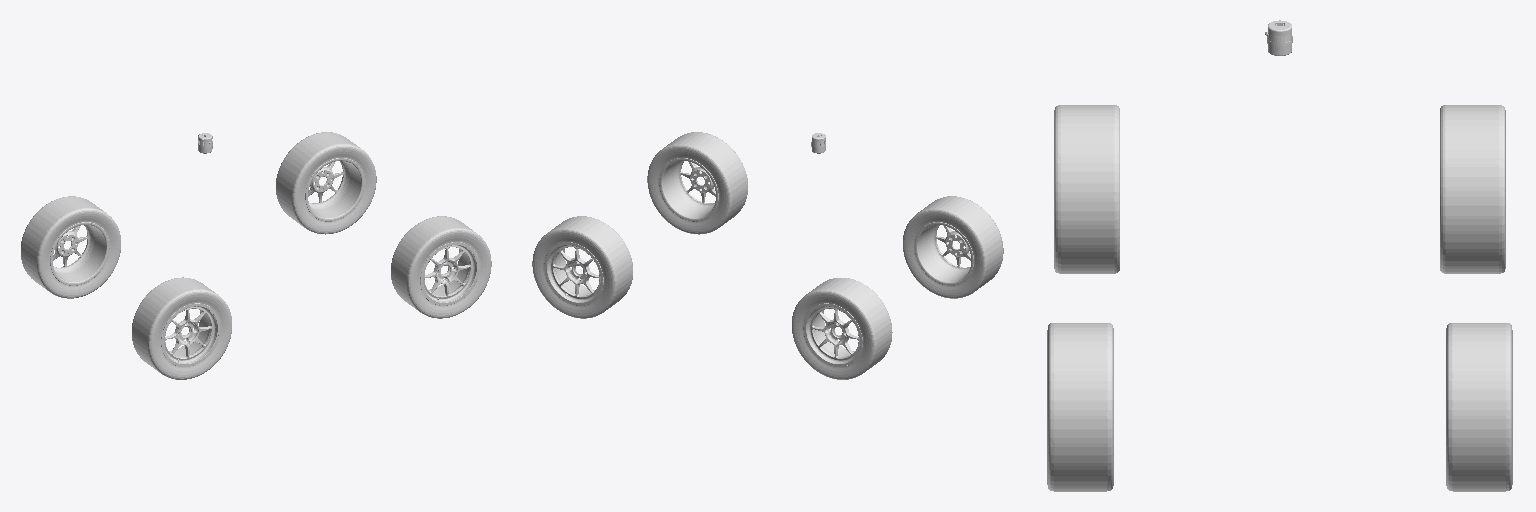
URDF robot description (urdf1):
<?xml version="1.0" encoding="utf-8"?>
<!-- This URDF was automatically created by SolidWorks to URDF Exporter! Originally created by Stephen Brawner (brawner@gmail.com) 
     Commit Version: 1.6.0-4-g7f85cfe  Build Version: 1.6.7995.38578
     For more information, please see http://wiki.ros.org/sw_urdf_exporter -->
<robot
  name="urdf1">
  <link
    name="base_link">
    <inertial>
      <origin
        xyz="0.21089 0.0079163 0.52061"
        rpy="0 0 0" />
      <mass
        value="46.187" />
      <inertia
        ixx="1.8859"
        ixy="0.0044227"
        ixz="0.056972"
        iyy="1.1014"
        iyz="0.00050168"
        izz="2.5571" />
    </inertial>
    <visual>
      <origin
        xyz="0 0 0"
        rpy="0 0 0" />
      <geometry>
        <mesh
          filename="package://urdf1/meshes/base_link.STL" />
      </geometry>
      <material
        name="">
        <color
          rgba="0.89412 0.89412 0.89412 1" />
      </material>
    </visual>
    <collision>
      <origin
        xyz="0 0 0"
        rpy="0 0 0" />
      <geometry>
        <mesh
          filename="package://urdf1/meshes/base_link.STL" />
      </geometry>
    </collision>
  </link>
  <link
    name="F_Left__Link">
    <inertial>
      <origin
        xyz="-7.3445E-06 -0.041865 1.6681E-05"
        rpy="0 0 0" />
      <mass
        value="8.3431" />
      <inertia
        ixx="0.24221"
        ixy="2.6654E-06"
        ixz="-9.1219E-06"
        iyy="0.40539"
        iyz="-6.0728E-06"
        izz="0.24223" />
    </inertial>
    <visual>
      <origin
        xyz="0 0 0"
        rpy="0 0 0" />
      <geometry>
        <mesh
          filename="package://urdf1/meshes/F_Left__Link.STL" />
      </geometry>
      <material
        name="">
        <color
          rgba="0.89412 0.89412 0.89412 1" />
      </material>
    </visual>
    <collision>
      <origin
        xyz="0 0 0"
        rpy="0 0 0" />
      <geometry>
        <mesh
          filename="package://urdf1/meshes/F_Left__Link.STL" />
      </geometry>
    </collision>
  </link>
  <joint
    name="F_Left__Joint"
    type="continuous">
    <origin
      xyz="1.3683 0.6455 0.216"
      rpy="0 0 0" />
    <parent
      link="base_link" />
    <child
      link="F_Left__Link" />
    <axis
      xyz="0 -1 0" />
  </joint>
  <link
    name="F_Right__Link">
    <inertial>
      <origin
        xyz="7.3448E-06 0.041865 1.6676E-05"
        rpy="0 0 0" />
      <mass
        value="8.3431" />
      <inertia
        ixx="0.24221"
        ixy="2.6642E-06"
        ixz="9.1191E-06"
        iyy="0.40539"
        iyz="6.0718E-06"
        izz="0.24223" />
    </inertial>
    <visual>
      <origin
        xyz="0 0 0"
        rpy="0 0 0" />
      <geometry>
        <mesh
          filename="package://urdf1/meshes/F_Right__Link.STL" />
      </geometry>
      <material
        name="">
        <color
          rgba="0.89412 0.89412 0.89412 1" />
      </material>
    </visual>
    <collision>
      <origin
        xyz="0 0 0"
        rpy="0 0 0" />
      <geometry>
        <mesh
          filename="package://urdf1/meshes/F_Right__Link.STL" />
      </geometry>
    </collision>
  </link>
  <joint
    name="F_Right__Joint"
    type="continuous">
    <origin
      xyz="1.3683 -0.6455 0.216"
      rpy="0 0 0" />
    <parent
      link="base_link" />
    <child
      link="F_Right__Link" />
    <axis
      xyz="0 1 0" />
  </joint>
  <link
    name="B_Left__Link">
    <inertial>
      <origin
        xyz="-1.6677E-05 -0.041865 -7.3409E-06"
        rpy="0 0 0" />
      <mass
        value="8.3431" />
      <inertia
        ixx="0.24223"
        ixy="6.0728E-06"
        ixz="9.1249E-06"
        iyy="0.40539"
        iyz="2.6671E-06"
        izz="0.24221" />
    </inertial>
    <visual>
      <origin
        xyz="0 0 0"
        rpy="0 0 0" />
      <geometry>
        <mesh
          filename="package://urdf1/meshes/B_Left__Link.STL" />
      </geometry>
      <material
        name="">
        <color
          rgba="0.89412 0.89412 0.89412 1" />
      </material>
    </visual>
    <collision>
      <origin
        xyz="0 0 0"
        rpy="0 0 0" />
      <geometry>
        <mesh
          filename="package://urdf1/meshes/B_Left__Link.STL" />
      </geometry>
    </collision>
  </link>
  <joint
    name="B_Left__Joint"
    type="continuous">
    <origin
      xyz="-0.18175 0.6252 0.216"
      rpy="0 0 0" />
    <parent
      link="base_link" />
    <child
      link="B_Left__Link" />
    <axis
      xyz="0 -1 0" />
    <limit
      lower="0"
      upper="0"
      effort="0"
      velocity="0" />
  </joint>
  <link
    name="B_Right__Link">
    <inertial>
      <origin
        xyz="7.3429E-06 0.041865 1.6682E-05"
        rpy="0 0 0" />
      <mass
        value="8.3431" />
      <inertia
        ixx="0.24221"
        ixy="2.6653E-06"
        ixz="9.1223E-06"
        iyy="0.40539"
        iyz="6.0696E-06"
        izz="0.24223" />
    </inertial>
    <visual>
      <origin
        xyz="0 0 0"
        rpy="0 0 0" />
      <geometry>
        <mesh
          filename="package://urdf1/meshes/B_Right__Link.STL" />
      </geometry>
      <material
        name="">
        <color
          rgba="0.89412 0.89412 0.89412 1" />
      </material>
    </visual>
    <collision>
      <origin
        xyz="0 0 0"
        rpy="0 0 0" />
      <geometry>
        <mesh
          filename="package://urdf1/meshes/B_Right__Link.STL" />
      </geometry>
    </collision>
  </link>
  <joint
    name="B_Right__Joint"
    type="continuous">
    <origin
      xyz="-0.18175 -0.6252 0.216"
      rpy="0 0 0" />
    <parent
      link="base_link" />
    <child
      link="B_Right__Link" />
    <axis
      xyz="0 1 0" />
  </joint>
  <link
    name="Lidar_Link">
    <inertial>
      <origin
        xyz="-7.1986E-05 -0.00010211 0.037252"
        rpy="0 0 0" />
      <mass
        value="0.35152" />
      <inertia
        ixx="0.00016337"
        ixy="-6.6202E-09"
        ixz="1.4666E-07"
        iyy="0.00015786"
        iyz="2.4815E-08"
        izz="0.00024246" />
    </inertial>
    <visual>
      <origin
        xyz="0 0 0"
        rpy="0 0 0" />
      <geometry>
        <mesh
          filename="package://urdf1/meshes/Lidar_Link.STL" />
      </geometry>
      <material
        name="">
        <color
          rgba="0.89412 0.89412 0.89412 1" />
      </material>
    </visual>
    <collision>
      <origin
        xyz="0 0 0"
        rpy="0 0 0" />
      <geometry>
        <mesh
          filename="package://urdf1/meshes/Lidar_Link.STL" />
      </geometry>
    </collision>
  </link>
  <joint
    name="Lidar_Joint"
    type="fixed">
    <origin
      xyz="0.2936 0 0.8955"
      rpy="0 0 0" />
    <parent
      link="base_link" />
    <child
      link="Lidar_Link" />
    <axis
      xyz="0 0 0" />
  </joint>
</robot>

--- Render facts (derived) ---
3 views of the same robot in one strip: view 1: azimuth 30°, elevation 25°; view 2: azimuth 150°, elevation 25°; view 3: azimuth 270°, elevation 25° (orthographic).
Model urdf1 with 6 links and 5 joints (4 continuous, 1 fixed), rooted at base_link, posed every joint at zero.
Visible links, largest first — view 1: F_Right__Link, B_Left__Link, F_Left__Link, B_Right__Link; view 2: B_Right__Link, F_Left__Link, F_Right__Link, B_Left__Link; view 3: F_Left__Link, F_Right__Link, B_Left__Link, B_Right__Link, Lidar_Link.
Link boxes in pixels (x1,y1,x2,y2): F_Right__Link: (391, 216, 491, 318); B_Left__Link: (21, 196, 120, 298); F_Left__Link: (276, 132, 376, 234); B_Right__Link: (132, 277, 231, 379); B_Right__Link: (903, 196, 1003, 298); F_Left__Link: (532, 216, 632, 318); F_Right__Link: (647, 132, 747, 234); B_Left__Link: (792, 278, 892, 379); F_Left__Link: (1446, 323, 1512, 491); F_Right__Link: (1047, 323, 1113, 491); B_Left__Link: (1440, 105, 1505, 273); B_Right__Link: (1054, 105, 1119, 273); Lidar_Link: (1265, 20, 1292, 55).
Size in the robot's own frame: 2.06 by 1.4 by 1.02 metres.
5 mesh visuals loaded from 6 distinct referenced files (5 binary STL); not drawn: 1 (reference not matched to a file when rendering).
